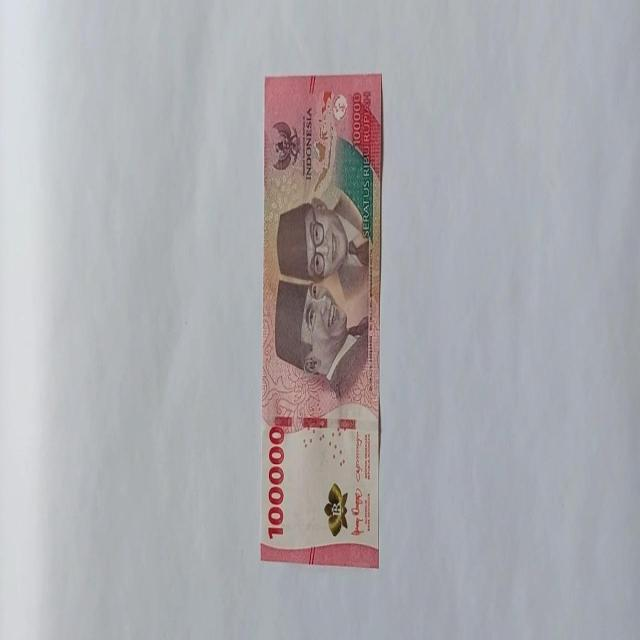Kertas: (260, 72, 384, 567)
